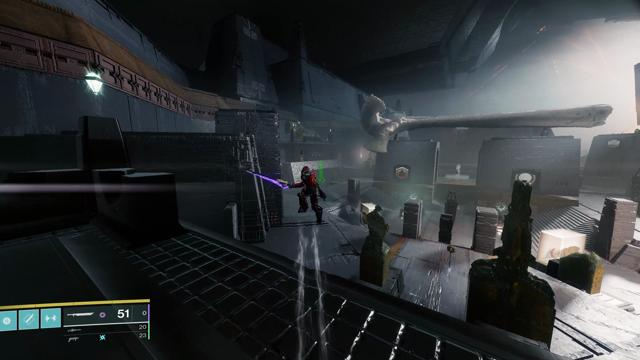commune: (608, 140, 620, 148)
pyramid: (395, 167, 409, 180)
traveler: (515, 173, 536, 187)
